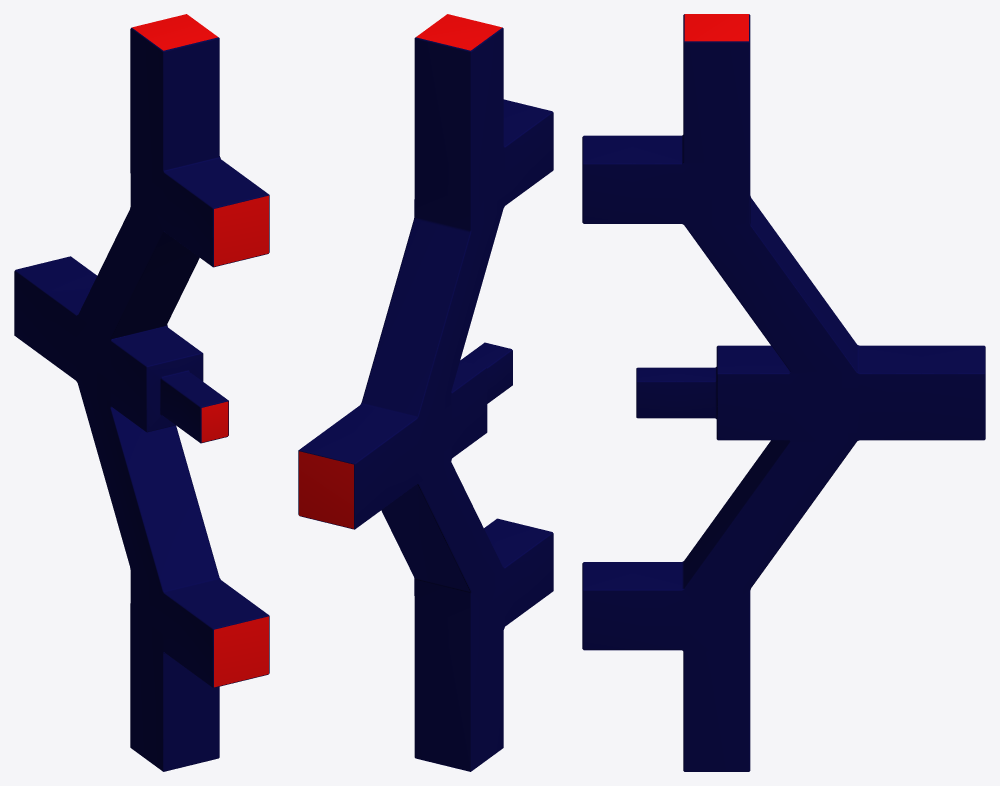
The model's file is Pillar.fbx.
3 renders of one model, left to right at view 1: azimuth 30°, elevation 25°; view 2: azimuth 150°, elevation 25°; view 3: azimuth 270°, elevation 25°, orthographic.
Parts seen in each view (by area): view 1: Pillar; view 2: Pillar; view 3: Pillar.
Part boxes in pixels (bbox=[...]): Pillar: bbox=[14, 14, 269, 771]; Pillar: bbox=[298, 14, 553, 771]; Pillar: bbox=[582, 14, 985, 771].
Size of what is drawn, in the model's own units: 50 by 600 by 300.
